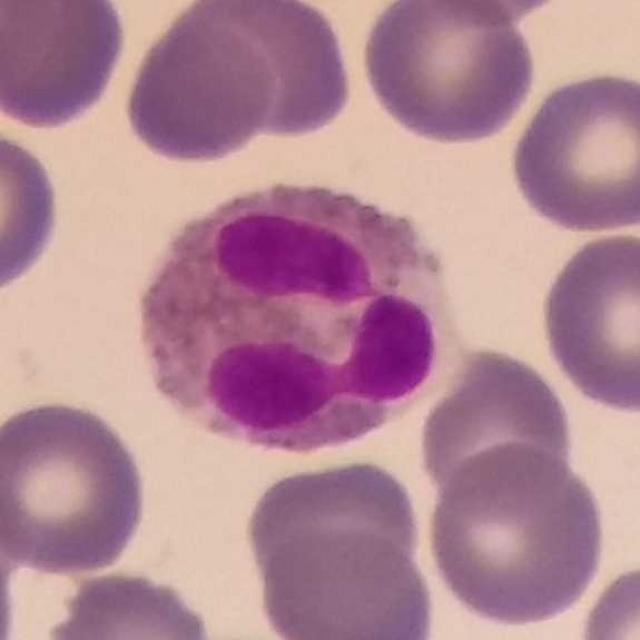eosino: (142, 182, 462, 460)
